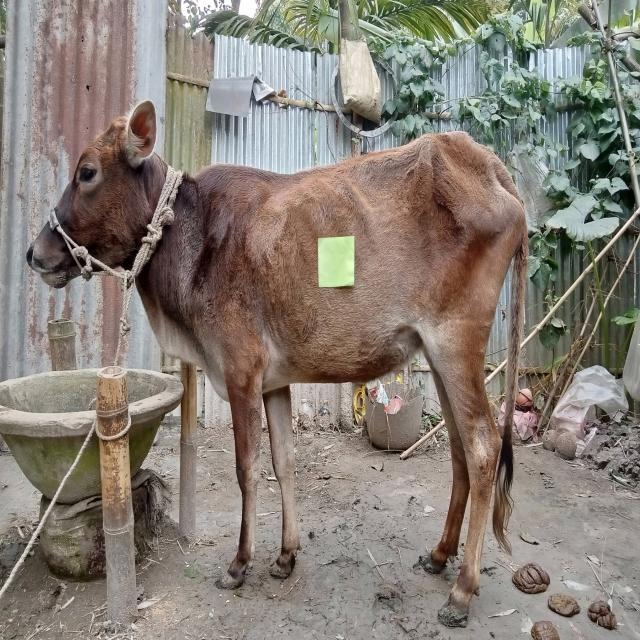badan_sapi: (225, 170, 492, 396)
sapi: (24, 98, 534, 630)
